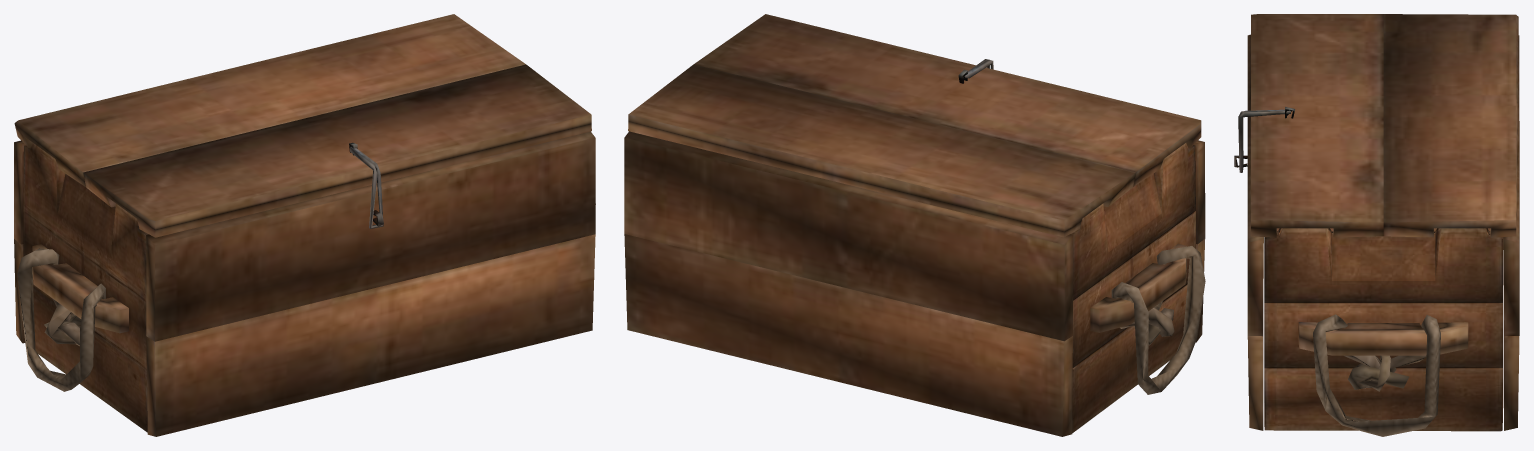
The model's file is kiste_holz.glb.
The picture shows the model from 3 angles, left to right: view 1: azimuth 30°, elevation 25°; view 2: azimuth 150°, elevation 25°; view 3: azimuth 270°, elevation 25°; orthographic projection. The views are drawn at different scales.
Visible parts, largest first — view 1: wooden_crate_01_lid; view 2: wooden_crate_01_lid; view 3: wooden_crate_01_lid.
Boxes of the visible parts, x1,y1,x2,y2 form: wooden_crate_01_lid: (14,14,595,436); wooden_crate_01_lid: (624,14,1205,436); wooden_crate_01_lid: (1234,14,1519,436).
Bounding box in the file's own units: 0.8245 × 0.3469 × 0.4042.
1 material, 1 textured.
